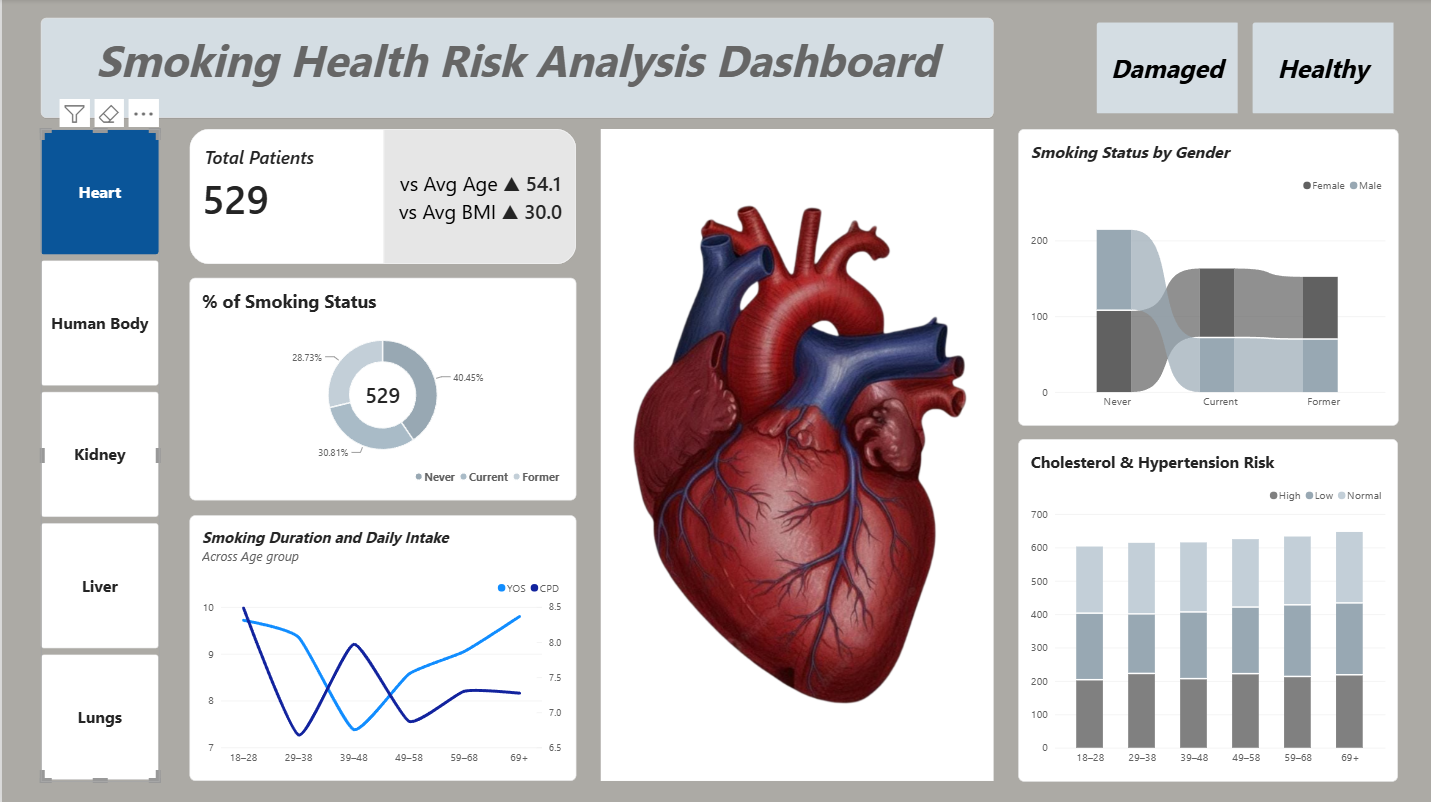

Layout of this report page (visuals, bound fields, positions):
{"tool":"powerbi","page":{"name":"Page 1","canvas":[1920,1080],"ordinal":0},"visuals":[{"type":"cardVisual","fields":{"Data":["CountNonNull(health_dataset.Patient_ID)"]},"box":[251.2,174.4,518,181.4],"z":0},{"type":"textbox","box":[271.7,195.5,189.4,47.3],"z":1000},{"type":"advancedSlicerVisual","fields":{"Values":["condition.Organ_Condition"]},"box":[1459.9,24.4,411.6,134.3],"z":2000},{"type":"image","box":[802.3,174.4,526.7,873.8],"z":3000},{"type":"donutChart","title":"% of Smoking Status","fields":{"Category":["health_dataset.Smoking_Status"],"Y":["CountNonNull(health_dataset.Smoking_Status)"]},"box":[251.2,373.3,518,298.3],"z":4000},{"type":"lineChart","title":"Smoking Duration and Daily Intake","fields":{"Category":["health_dataset.Age Group"],"Y":["Avg(health_dataset.Years_of_Smoking)"],"Y2":["Avg(health_dataset.Cigarettes_Per_Day)"]},"box":[251.2,692.4,518,355.8],"z":5000},{"type":"ribbonChart","title":"Smoking Status by Gender","fields":{"Category":["health_dataset.Smoking_Status"],"Series":["health_dataset.Gender"],"Y":["CountNonNull(health_dataset.Patient_ID)"]},"box":[1362.2,174.4,509.3,397.7],"z":6000},{"type":"columnChart","title":"Cholesterol & Hypertension Risk","fields":{"Category":["health_dataset.Age Group"],"Series":["health_dataset.BP_Risk"],"Y":["Avg(health_dataset.Cholesterol_Level)"]},"box":[1362.2,589.5,509.2,458.9],"z":7000},{"type":"advancedSlicerVisual","fields":{"Values":["Organs.Organ"]},"box":[52.3,174.4,158.7,873.8],"z":8000},{"type":"textbox","box":[52.3,24.4,1276.7,134.3],"z":8001}]}

Visuals, with their boxes on the page's 1920x1080 design canvas (x1, y1, x2, y2). These are canvas units, not pixel positions in the 1431x802 screenshot, which may show the page scaled, cropped or inside an application window:
cardVisual - CountNonNull(health_dataset.Patient_ID): {"x1": 251, "y1": 174, "x2": 769, "y2": 356}
textbox: {"x1": 272, "y1": 196, "x2": 461, "y2": 243}
advancedSlicerVisual - condition.Organ_Condition: {"x1": 1460, "y1": 24, "x2": 1872, "y2": 159}
image: {"x1": 802, "y1": 174, "x2": 1329, "y2": 1048}
"% of Smoking Status" donutChart: {"x1": 251, "y1": 373, "x2": 769, "y2": 672}
"Smoking Duration and Daily Intake" lineChart: {"x1": 251, "y1": 692, "x2": 769, "y2": 1048}
"Smoking Status by Gender" ribbonChart: {"x1": 1362, "y1": 174, "x2": 1872, "y2": 572}
"Cholesterol & Hypertension Risk" columnChart: {"x1": 1362, "y1": 590, "x2": 1871, "y2": 1048}
advancedSlicerVisual - Organs.Organ: {"x1": 52, "y1": 174, "x2": 211, "y2": 1048}
textbox: {"x1": 52, "y1": 24, "x2": 1329, "y2": 159}
